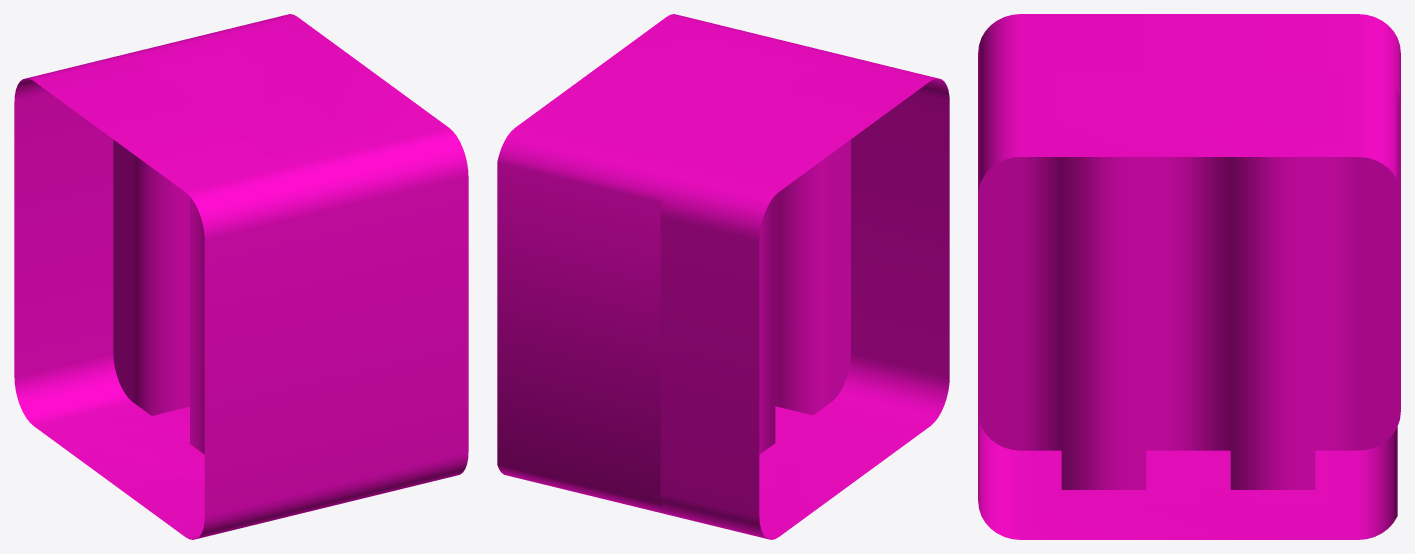
The model's file is GAME CUBE.fbx.
3 renders of one model, left to right at view 1: azimuth 30°, elevation 25°; view 2: azimuth 150°, elevation 25°; view 3: azimuth 270°, elevation 25°, orthographic. The views are drawn at different scales.
Visible parts, largest first — view 1: ghep1, ghep2; view 2: ghep1, ghep2; view 3: ghep1, ghep2.
Part boxes in pixels (x1,y1,x2,y2): ghep1: [14, 53, 337, 539]; ghep2: [114, 14, 468, 514]; ghep1: [627, 53, 949, 539]; ghep2: [497, 14, 850, 514]; ghep1: [978, 14, 1400, 489]; ghep2: [978, 67, 1397, 539].
Size of the model in its own units: 40 by 50 by 50.
